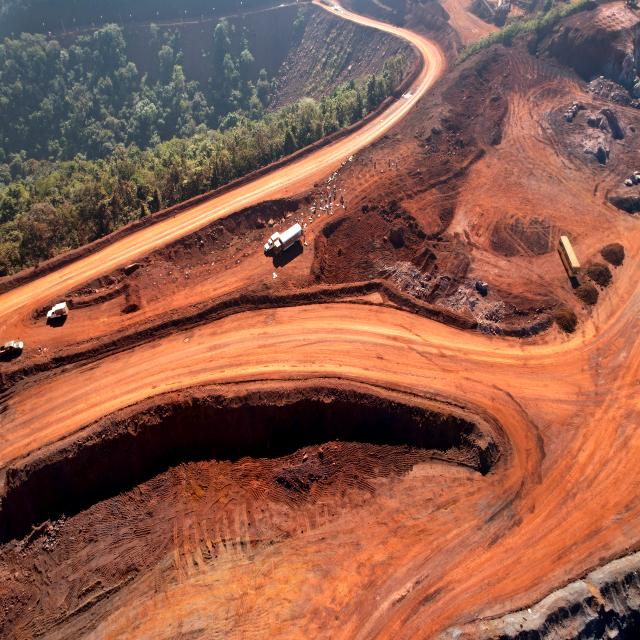car: (0, 336, 22, 357), (46, 302, 69, 319)
person: (320, 199, 322, 207), (345, 200, 347, 207), (301, 218, 303, 224), (327, 206, 329, 212), (329, 194, 331, 200), (291, 221, 293, 226), (375, 160, 376, 167), (304, 232, 305, 238), (311, 212, 312, 218), (389, 157, 390, 163), (362, 157, 363, 163), (396, 159, 397, 165)
